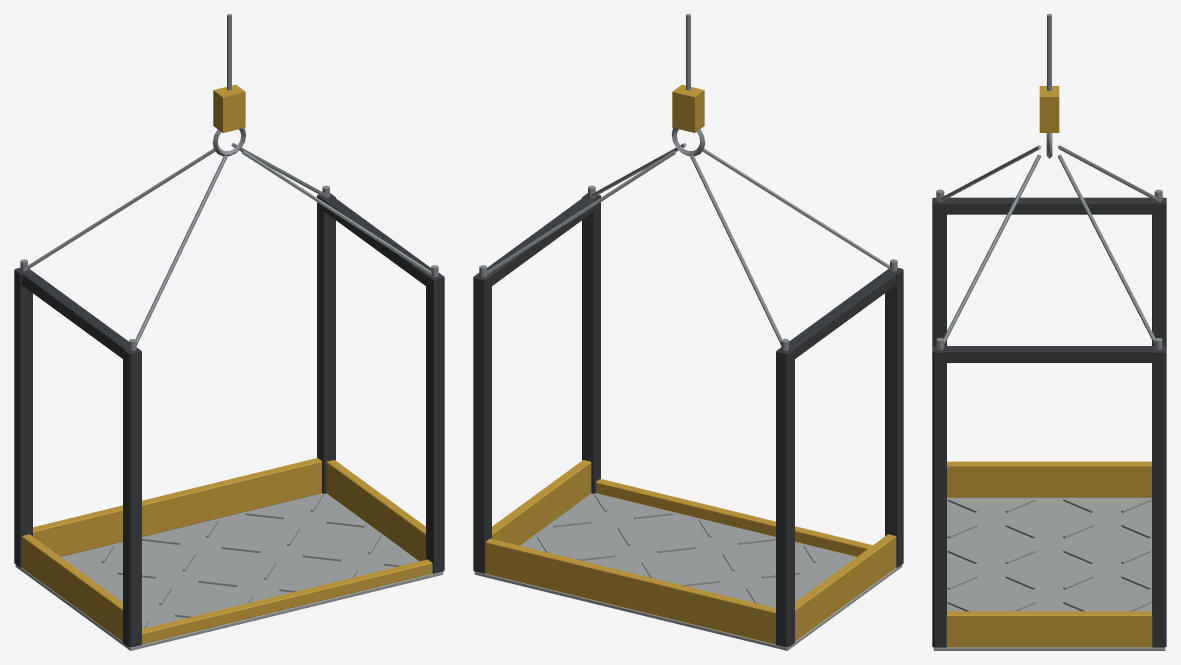
Rendered from prop_hoist_cradle_w110.glb.
The picture shows the model from 3 angles, left to right: view 1: azimuth 30°, elevation 25°; view 2: azimuth 150°, elevation 25°; view 3: azimuth 270°, elevation 25°; orthographic projection.
Parts seen in each view (by area): view 1: Car; view 2: Car; view 3: Car.
Part boxes in pixels (bbox=[...]): Car: bbox=[14, 14, 444, 650]; Car: bbox=[473, 14, 903, 650]; Car: bbox=[932, 14, 1166, 650].
Bounding box in the file's own units: 1.11 × 1.87 × 0.708.
